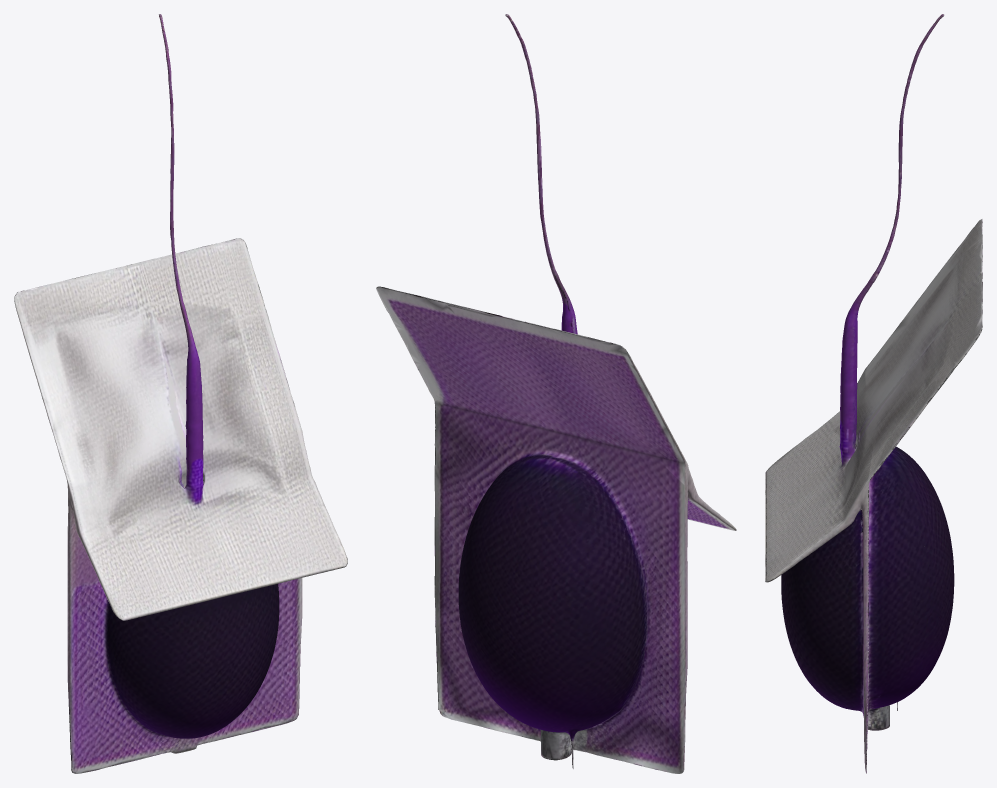
The model's file is vet_equip_suture_needle.glb.
3 renders of one model, left to right at view 1: azimuth 30°, elevation 25°; view 2: azimuth 150°, elevation 25°; view 3: azimuth 270°, elevation 25°, orthographic. The views are drawn at different scales.
Visible parts, largest first — view 1: model; view 2: model; view 3: model.
Boxes of the visible parts, x1,y1,x2,y2 form: model: [14, 14, 347, 773]; model: [376, 14, 736, 773]; model: [765, 14, 982, 773].
Size of the model in its own units: 0.6548 by 1.9 by 0.5226.
Materials: 1 (1 with a texture image).
